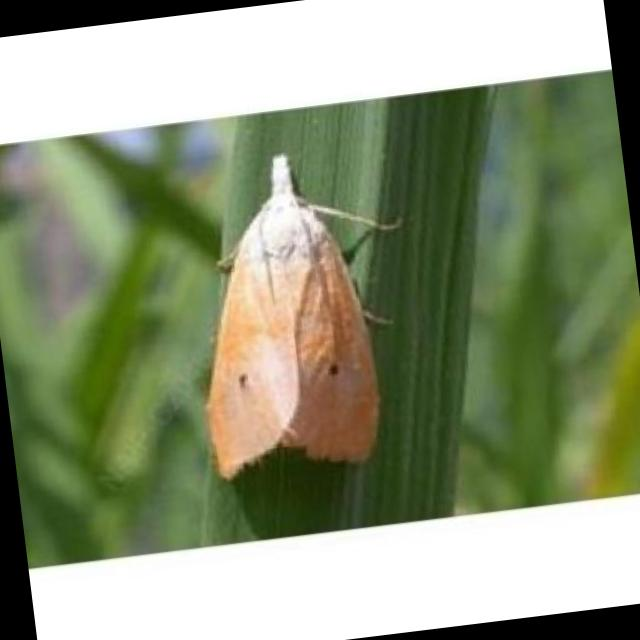stem-borer: (168, 137, 397, 484)
